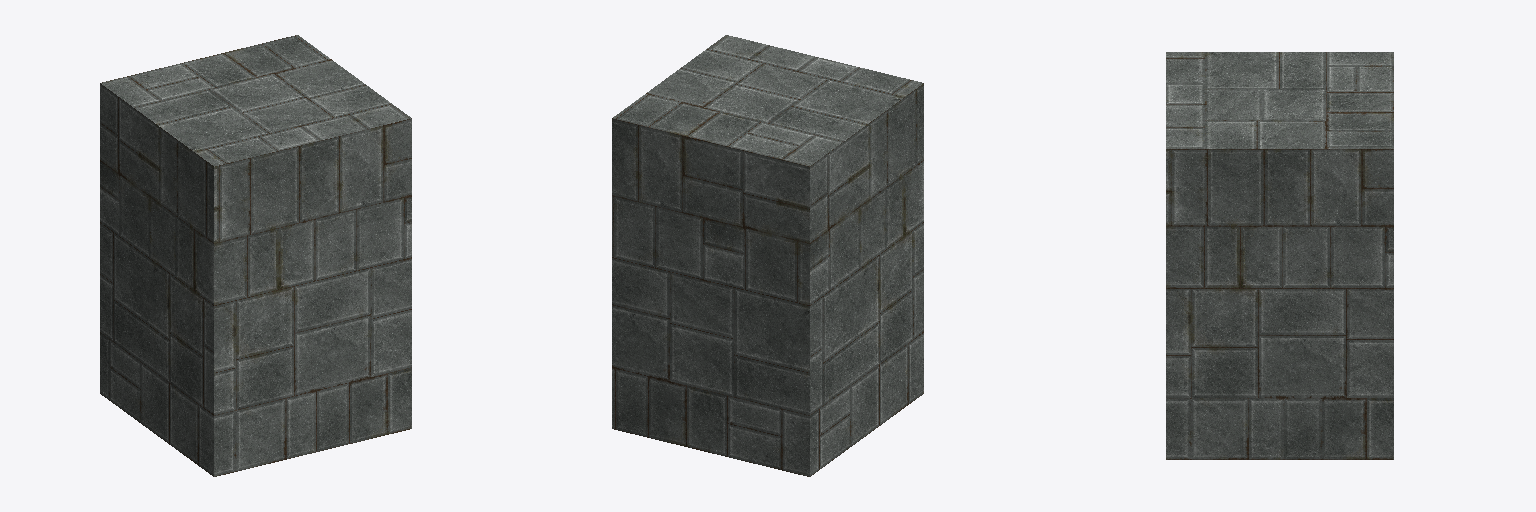
3 renders of one model, left to right at view 1: azimuth 30°, elevation 25°; view 2: azimuth 150°, elevation 25°; view 3: azimuth 270°, elevation 25°, orthographic.
Visible parts, largest first — view 1: Cube; view 2: Cube; view 3: Cube.
Boxes of the visible parts, x1,y1,x2,y2 form: Cube: [100, 35, 411, 476]; Cube: [612, 35, 923, 476]; Cube: [1166, 52, 1393, 459].
Bounding box in the file's own units: 2 × 3 × 2.
1 materials, 1 textured.